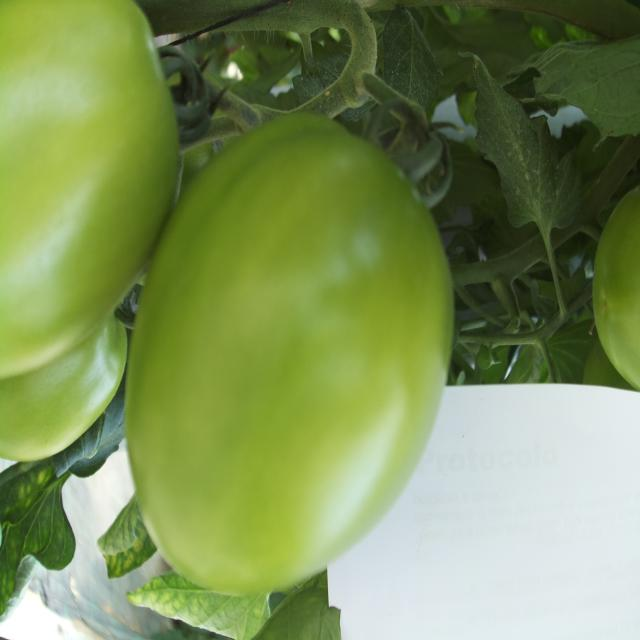yesil: (90, 49, 464, 588)
